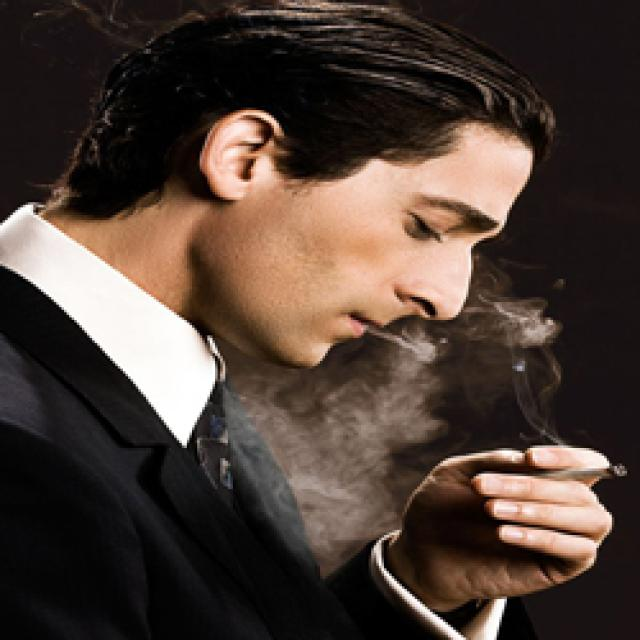Smooking: (531, 456, 631, 489)
